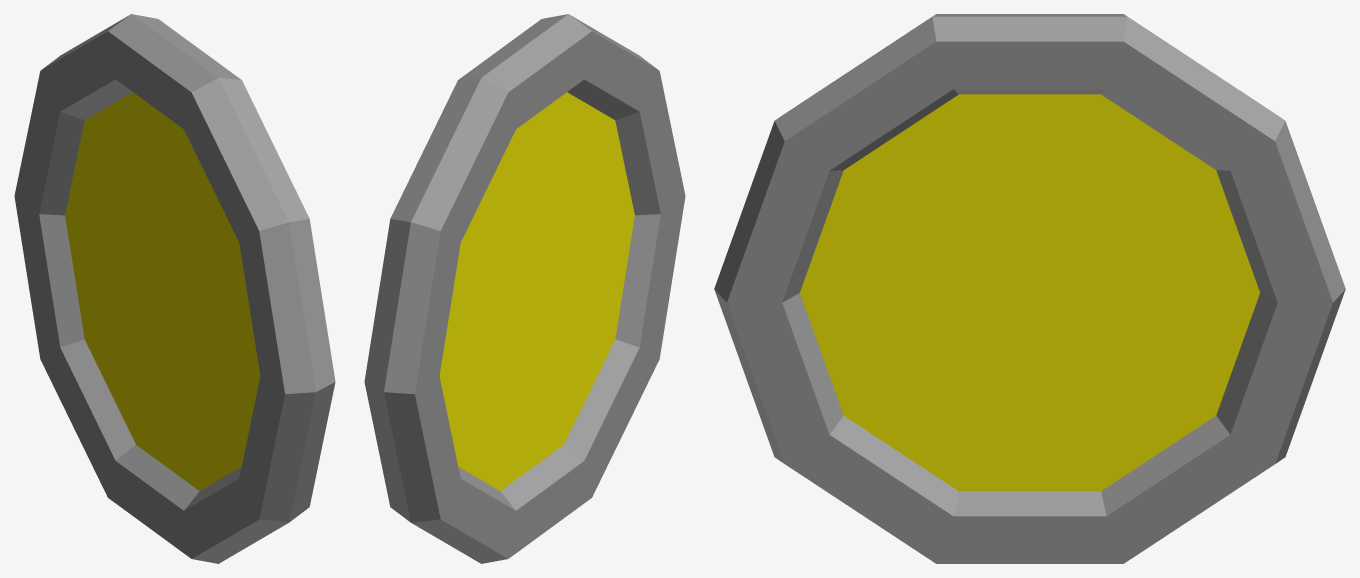
Rendered from Moneta.fbx.
3 views of the same model, side by side, from view 1: azimuth 30°, elevation 25°; view 2: azimuth 150°, elevation 25°; view 3: azimuth 270°, elevation 25° (orthographic). The views are drawn at different scales.
Parts seen in each view (by area): view 1: Circle; view 2: Circle; view 3: Circle.
Boxes of the visible parts, x1,y1,x2,y2 form: Circle: (14, 14, 335, 563); Circle: (364, 14, 685, 563); Circle: (714, 14, 1345, 563).
Size of the model in its own units: 10.76 by 99.11 by 104.
